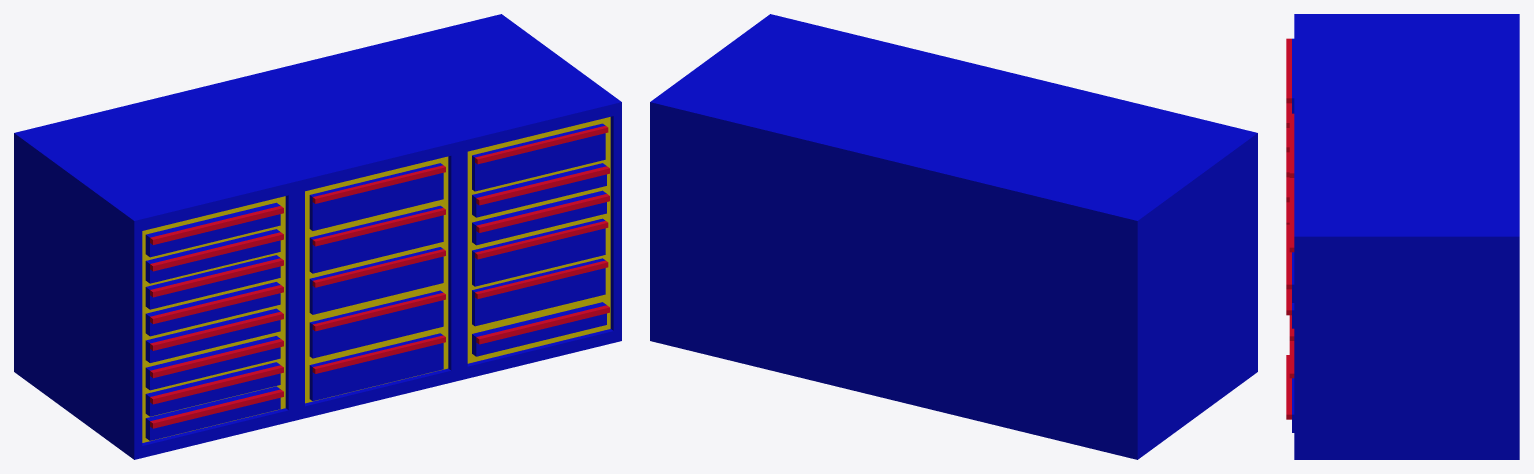
The model's file is ToolChest_1.fbx.
3 views of the same model, side by side, from view 1: azimuth 30°, elevation 25°; view 2: azimuth 150°, elevation 25°; view 3: azimuth 270°, elevation 25° (orthographic). The views are drawn at different scales.
Parts seen in each view (by area): view 1: ToolChest_1; view 2: ToolChest_1; view 3: ToolChest_1.
Boxes of the visible parts, bbox=[...] form: ToolChest_1: bbox=[14, 14, 621, 459]; ToolChest_1: bbox=[650, 14, 1257, 459]; ToolChest_1: bbox=[1286, 14, 1519, 459].
Bounding box in the file's own units: 187 × 87.64 × 82.83.
